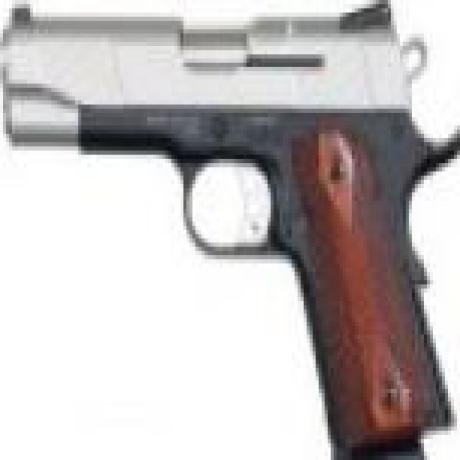weapon: (0, 10, 443, 444)
